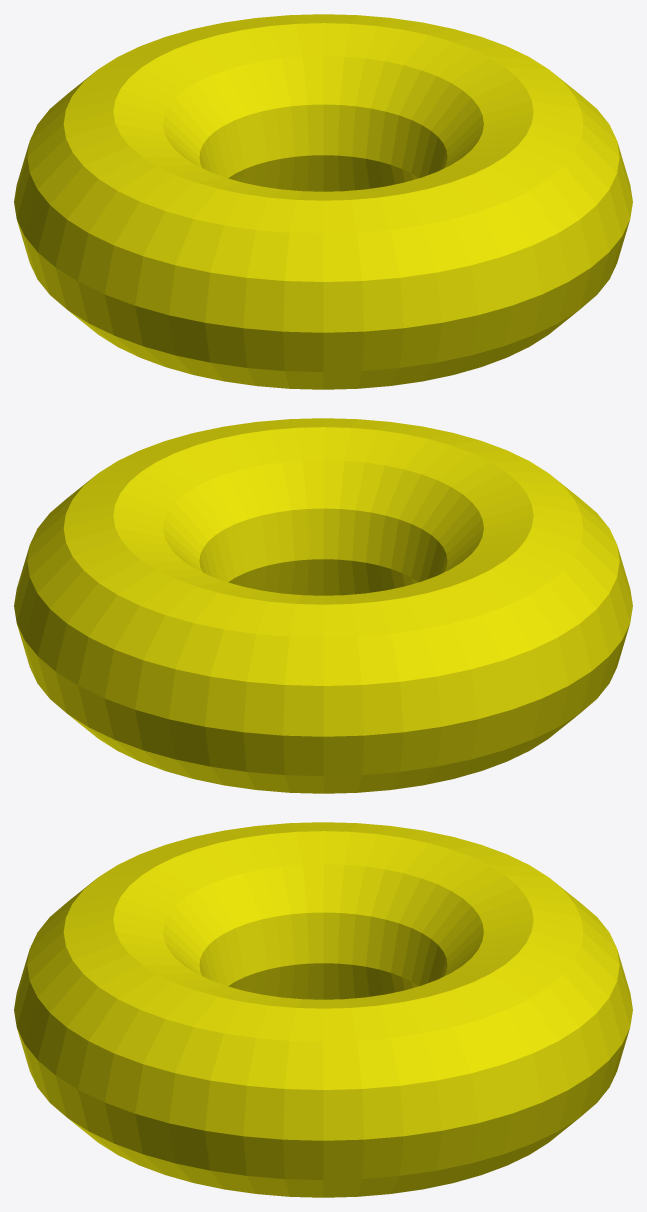
File: IconTorus.glb
3 views of the same model, one above another, from view 1: azimuth 30°, elevation 25°; view 2: azimuth 150°, elevation 25°; view 3: azimuth 270°, elevation 25° (orthographic).
Parts seen in each view (by area): view 1: IconTorus; view 2: IconTorus; view 3: IconTorus.
Part boxes in pixels (x1,y1,x2,y2): IconTorus: [14, 14, 632, 389]; IconTorus: [14, 418, 632, 793]; IconTorus: [14, 822, 632, 1197].
Bounding box in the file's own units: 2.95 × 0.946 × 2.95.
